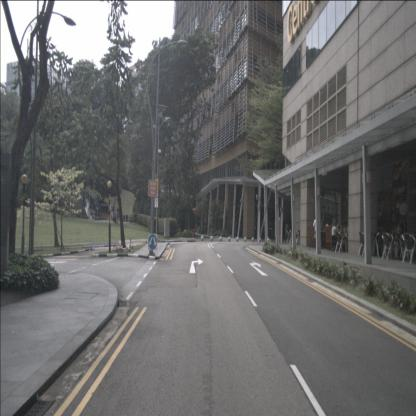human-pedestrian-adult: (331, 219, 338, 250), (313, 214, 318, 248), (106, 196, 113, 220)
vehicle-bicycle: (112, 238, 132, 253)
